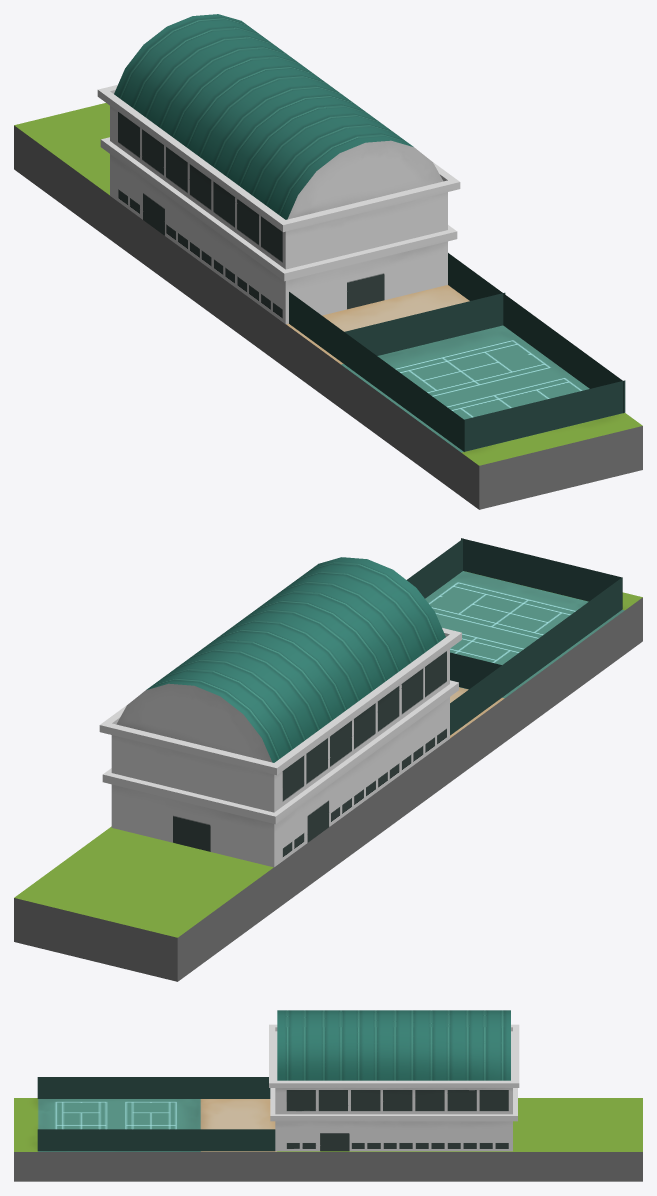
Rendered from building03.dae.
3 views of the same model, one above another, from view 1: azimuth 30°, elevation 25°; view 2: azimuth 150°, elevation 25°; view 3: azimuth 270°, elevation 25° (orthographic). The views are drawn at different scales.
Visible parts, largest first — view 1: ground03, building03, b3_roof, fence03, fence02, fence04, fence01; view 2: ground03, building03, b3_roof, fence03, fence02, fence04, fence01; view 3: ground03, building03, b3_roof, fence04, fence03.
Part boxes in pixels (bbox=[...]): ground03: bbox=[14, 103, 642, 509]; building03: bbox=[97, 84, 460, 324]; b3_roof: bbox=[114, 14, 443, 219]; fence03: bbox=[289, 292, 464, 451]; fence02: bbox=[464, 380, 625, 451]; fence04: bbox=[448, 253, 623, 413]; fence01: bbox=[344, 292, 505, 355]; ground03: bbox=[14, 571, 642, 981]; building03: bbox=[99, 628, 461, 867]; b3_roof: bbox=[116, 557, 445, 762]; fence03: bbox=[450, 577, 622, 735]; fence02: bbox=[461, 538, 622, 609]; fence04: bbox=[407, 539, 462, 598]; fence01: bbox=[450, 652, 501, 689]; ground03: bbox=[14, 1098, 642, 1181]; building03: bbox=[269, 1024, 519, 1151]; b3_roof: bbox=[277, 1010, 510, 1080]; fence04: bbox=[37, 1129, 275, 1151]; fence03: bbox=[37, 1077, 270, 1098].
Size of the model in its own units: 8.73 by 9.65 by 39.7.
